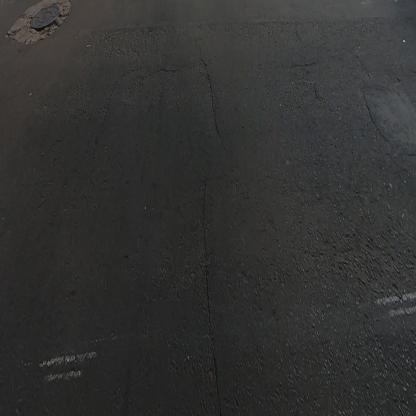manholes: (22, 1, 66, 46)
